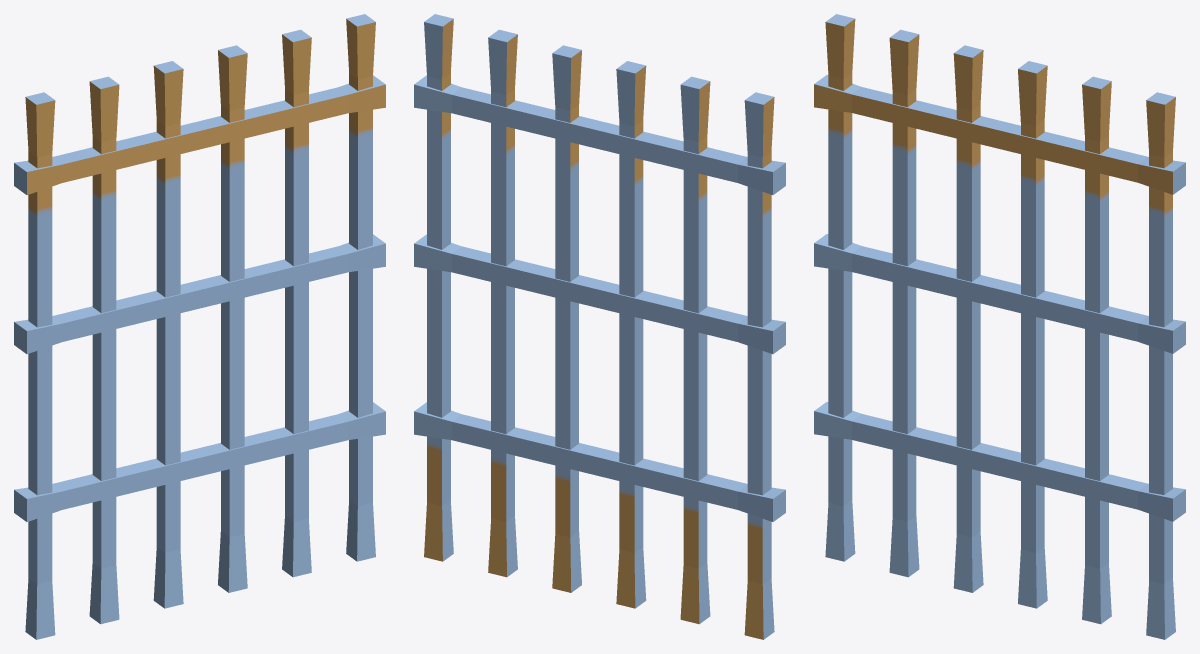
Rendered from vGate_New.fbx.
3 views of the same model, side by side, from view 1: azimuth 30°, elevation 25°; view 2: azimuth 150°, elevation 25°; view 3: azimuth 330°, elevation 25° (orthographic).
Parts seen in each view (by area): view 1: pCube63; view 2: pCube63; view 3: pCube63.
Part boxes in pixels (x1,y1,x2,y2): pCube63: (14,14,385,639); pCube63: (414,14,785,639); pCube63: (814,14,1185,639).
Bounding box in the file's own units: 11.2 × 15.94 × 0.6923.
